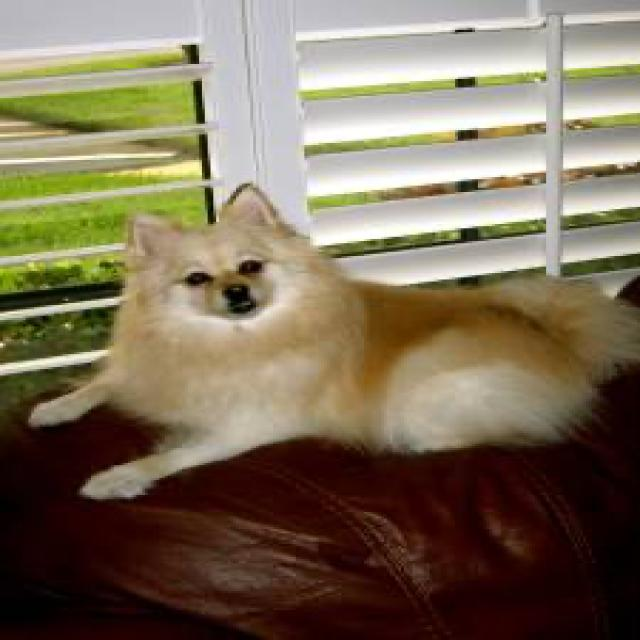dog: (131, 179, 284, 329)
